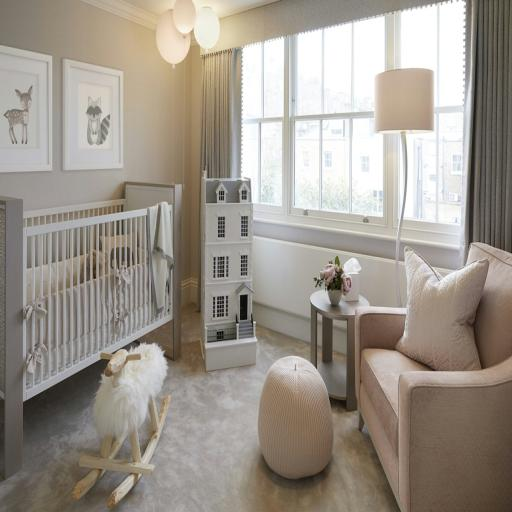crib: (0, 183, 180, 477)
